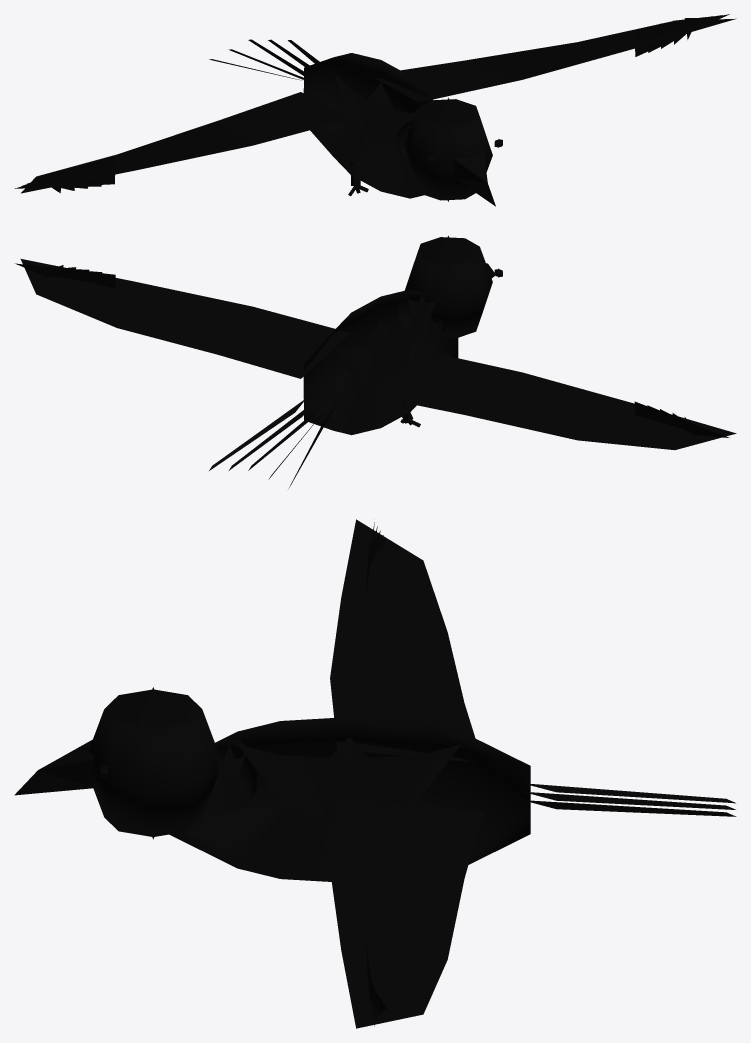
The model's file is gliding_02.glb.
The picture shows the model from 3 angles, top to bottom: view 1: azimuth 30°, elevation 25°; view 2: azimuth 150°, elevation 25°; view 3: azimuth 270°, elevation 25°; orthographic projection. The views are drawn at different scales.
Parts seen in each view (by area): view 1: RaptorBody; view 2: RaptorBody; view 3: RaptorBody.
Part boxes in pixels (left/top/right/bottom): RaptorBody: left=14, top=14, right=736, bottom=206; RaptorBody: left=14, top=235, right=736, bottom=488; RaptorBody: left=14, top=519, right=736, bottom=1028.
Bounding box in the file's own units: 2.71 × 0.5046 × 1.62.
7 materials, 7 textured.
